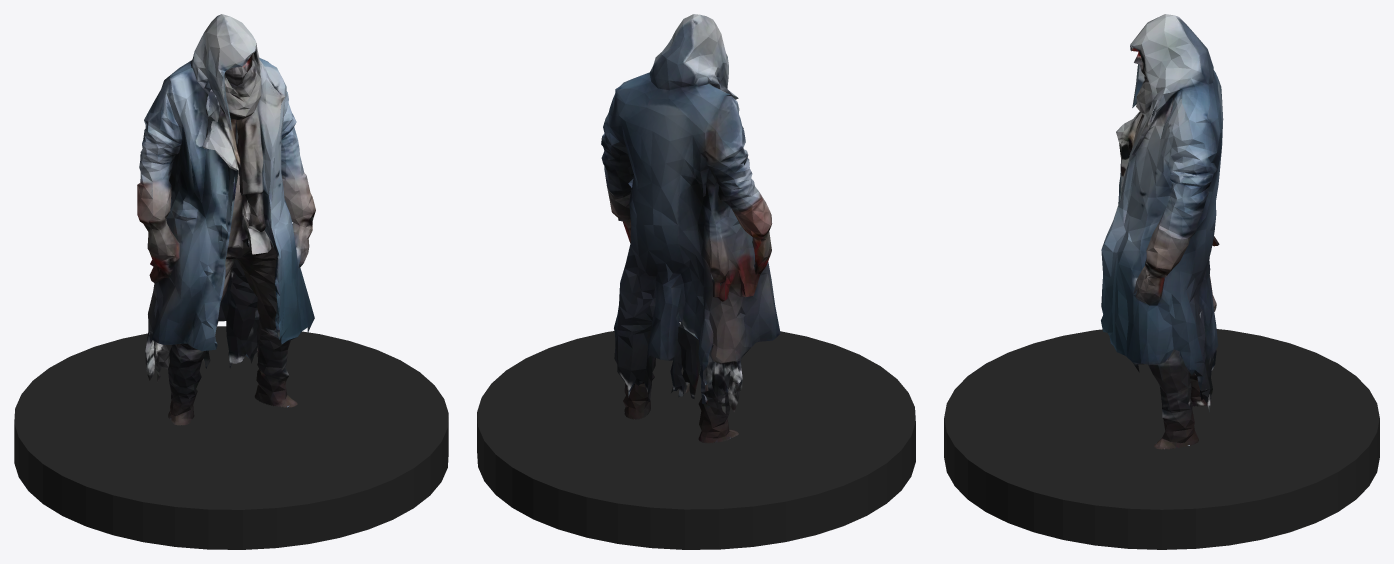
The model's file is zombie-shambler.glb.
3 views of the same model, side by side, from view 1: azimuth 30°, elevation 25°; view 2: azimuth 150°, elevation 25°; view 3: azimuth 270°, elevation 25° (orthographic).
Parts seen in each view (by area): view 1: base, figure; view 2: base, figure; view 3: base, figure.
Boxes of the visible parts, x1,y1,x2,y2 form: base: (14, 326, 448, 549); figure: (137, 14, 315, 425); base: (477, 324, 915, 549); figure: (601, 14, 780, 443); base: (944, 329, 1379, 549); figure: (1101, 14, 1223, 449).
Bounding box in the file's own units: 1.18 × 1.32 × 1.18.
2 materials, 1 textured.
